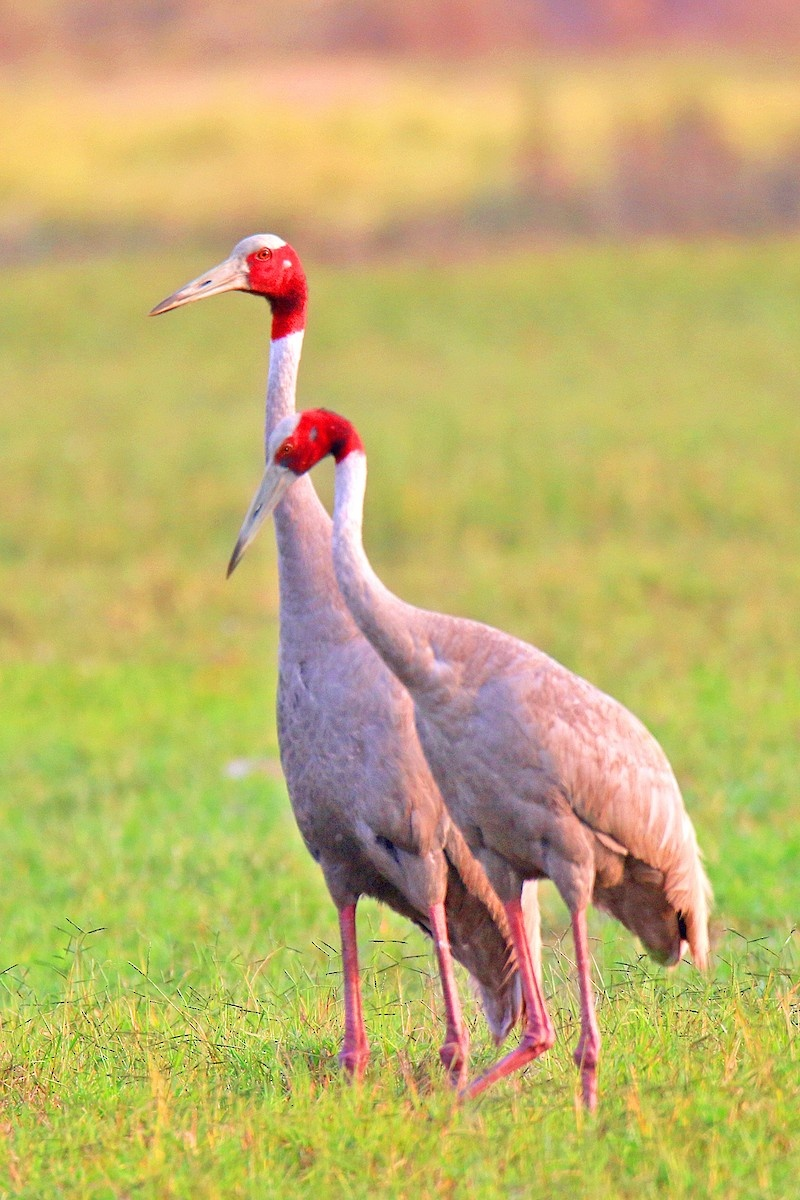crane: (223, 400, 759, 1104), (146, 212, 483, 1109)
